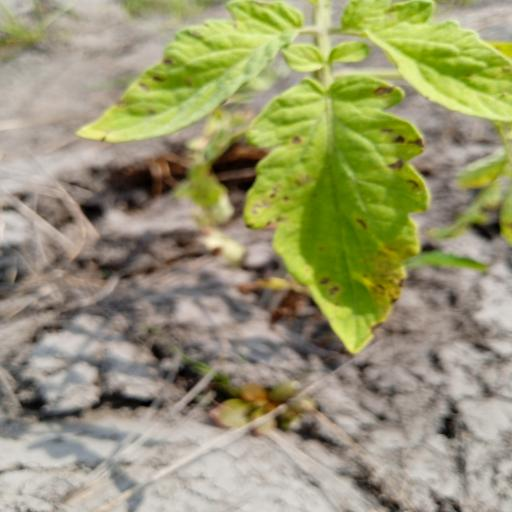Tomato_Brown_Spots: (237, 72, 439, 358)
